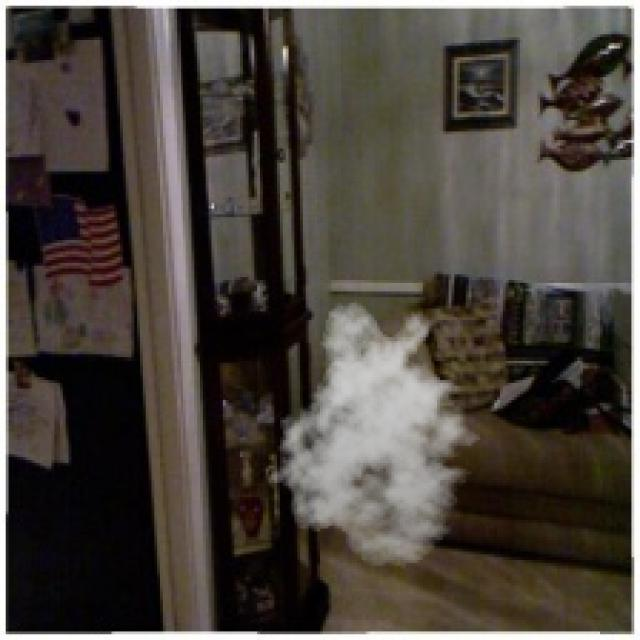smoke: (266, 300, 491, 569)
